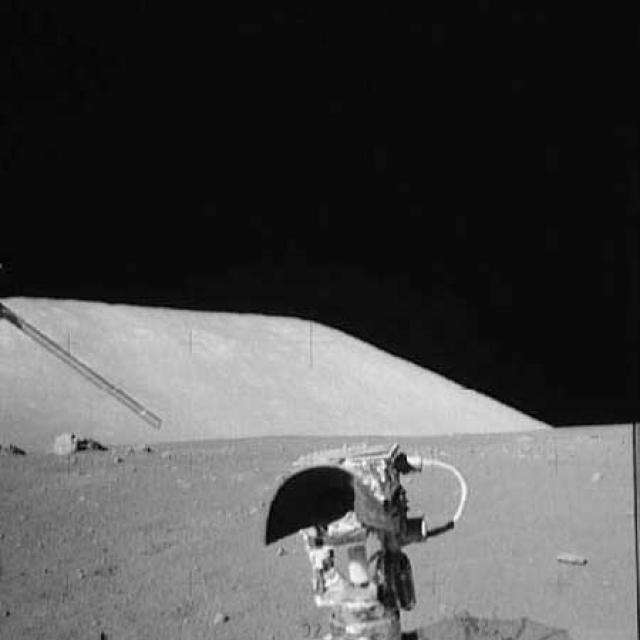artifact: (262, 438, 472, 639), (0, 298, 166, 428)
rock: (48, 430, 102, 458), (125, 439, 155, 456), (1, 437, 24, 456)
